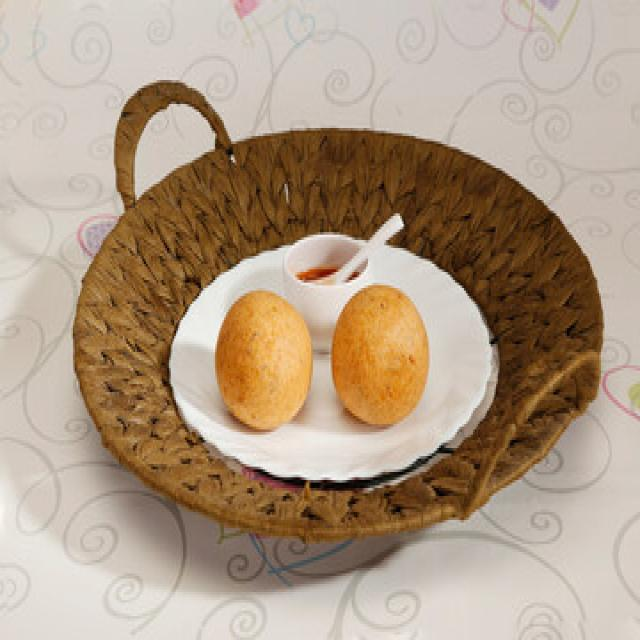BONDA: (213, 281, 429, 431)
